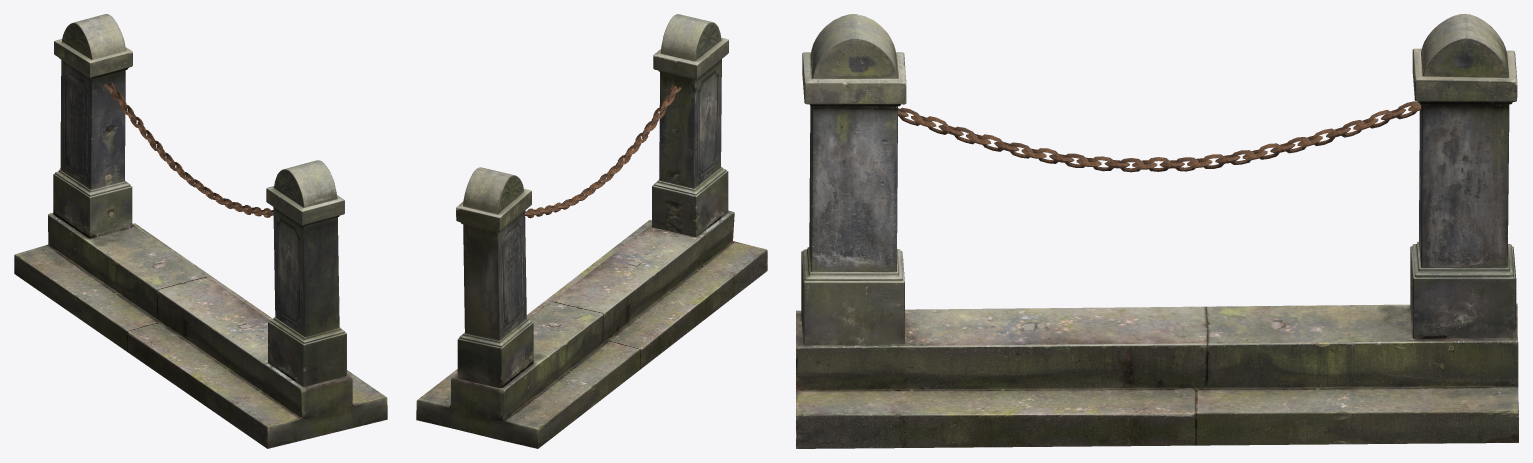
Rendered from sm_PlatformPillars_01_06.fbx.
The picture shows the model from 3 angles, left to right: view 1: azimuth 30°, elevation 25°; view 2: azimuth 150°, elevation 25°; view 3: azimuth 270°, elevation 25°; orthographic projection. The views are drawn at different scales.
Parts seen in each view (by area): view 1: sm_PlatformPillars_01_06_LOD0; view 2: sm_PlatformPillars_01_06_LOD0; view 3: sm_PlatformPillars_01_06_LOD0.
Boxes of the visible parts, x1,y1,x2,y2 form: sm_PlatformPillars_01_06_LOD0: (14, 14, 387, 448); sm_PlatformPillars_01_06_LOD0: (416, 14, 767, 448); sm_PlatformPillars_01_06_LOD0: (796, 14, 1518, 448).
Size of the model in its own units: 78.26 by 253 by 146.
